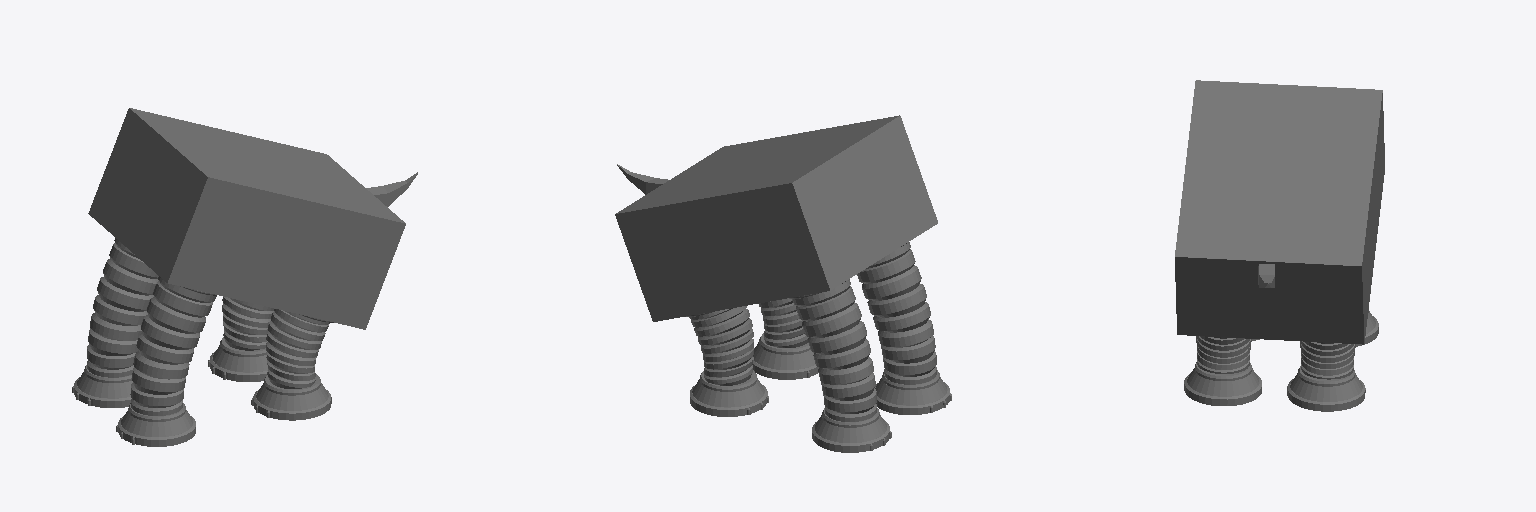
Rendered from cuerpogodar_obj.obj.
3 views of the same model, side by side, from view 1: azimuth 30°, elevation 25°; view 2: azimuth 150°, elevation 25°; view 3: azimuth 270°, elevation 25° (orthographic).
Visible parts, largest first — view 1: Cube, C_rculo_006_C_rculo_007, C_rculo, C_rculo_005_C_rculo_006, C_rculo_007_C_rculo_008, C_rculo_018_C_rculo_019, C_rculo_012_C_rculo_013, C_rculo_015_C_rculo_016, C_rculo_009_C_rculo_010, C_rculo_011_C_rculo_012, C_rculo_019_C_rculo_020, Plano (+2 smaller); view 2: Cube, C_rculo, C_rculo_006_C_rculo_007, C_rculo_007_C_rculo_008, C_rculo_005_C_rculo_006, C_rculo_009_C_rculo_010, C_rculo_012_C_rculo_013, C_rculo_015_C_rculo_016, C_rculo_018_C_rculo_019, C_rculo_014_C_rculo_015, C_rculo_010_C_rculo_011, C_rculo_011_C_rculo_012 (+2 smaller); view 3: Cube, C_rculo_007_C_rculo_008, C_rculo_005_C_rculo_006, C_rculo_018_C_rculo_019, C_rculo_015_C_rculo_016, C_rculo_014_C_rculo_015, C_rculo_019_C_rculo_020.
Part boxes in pixels (x1,y1,x2,y2): Cube: (88, 108, 405, 329); C_rculo_006_C_rculo_007: (130, 276, 216, 415); C_rculo: (87, 238, 158, 377); C_rculo_005_C_rculo_006: (266, 309, 329, 388); C_rculo_007_C_rculo_008: (222, 297, 273, 350); C_rculo_018_C_rculo_019: (256, 383, 328, 410); C_rculo_012_C_rculo_013: (121, 410, 192, 436); C_rculo_015_C_rculo_016: (213, 345, 267, 372); C_rculo_009_C_rculo_010: (77, 372, 132, 398); C_rculo_011_C_rculo_012: (118, 416, 195, 446); C_rculo_019_C_rculo_020: (253, 390, 331, 420); Plano: (366, 172, 417, 206); Cube: (615, 115, 937, 321); C_rculo: (792, 279, 876, 421); C_rculo_006_C_rculo_007: (857, 242, 936, 384); C_rculo_007_C_rculo_008: (689, 306, 753, 385); C_rculo_005_C_rculo_006: (759, 298, 808, 347); C_rculo_009_C_rculo_010: (815, 415, 886, 442); C_rculo_012_C_rculo_013: (875, 377, 946, 405); C_rculo_015_C_rculo_016: (692, 378, 764, 406); C_rculo_018_C_rculo_019: (753, 342, 815, 369); C_rculo_014_C_rculo_015: (690, 385, 767, 416); C_rculo_010_C_rculo_011: (812, 419, 889, 452); C_rculo_011_C_rculo_012: (875, 382, 949, 414); Cube: (1175, 80, 1384, 344); C_rculo_007_C_rculo_008: (1300, 341, 1355, 379); C_rculo_005_C_rculo_006: (1196, 336, 1251, 373); C_rculo_018_C_rculo_019: (1187, 368, 1258, 396); C_rculo_015_C_rculo_016: (1290, 373, 1362, 401); C_rculo_014_C_rculo_015: (1287, 379, 1365, 411); C_rculo_019_C_rculo_020: (1184, 373, 1261, 405).
Size of the model in its own units: 4.75 by 3.82 by 2.77.